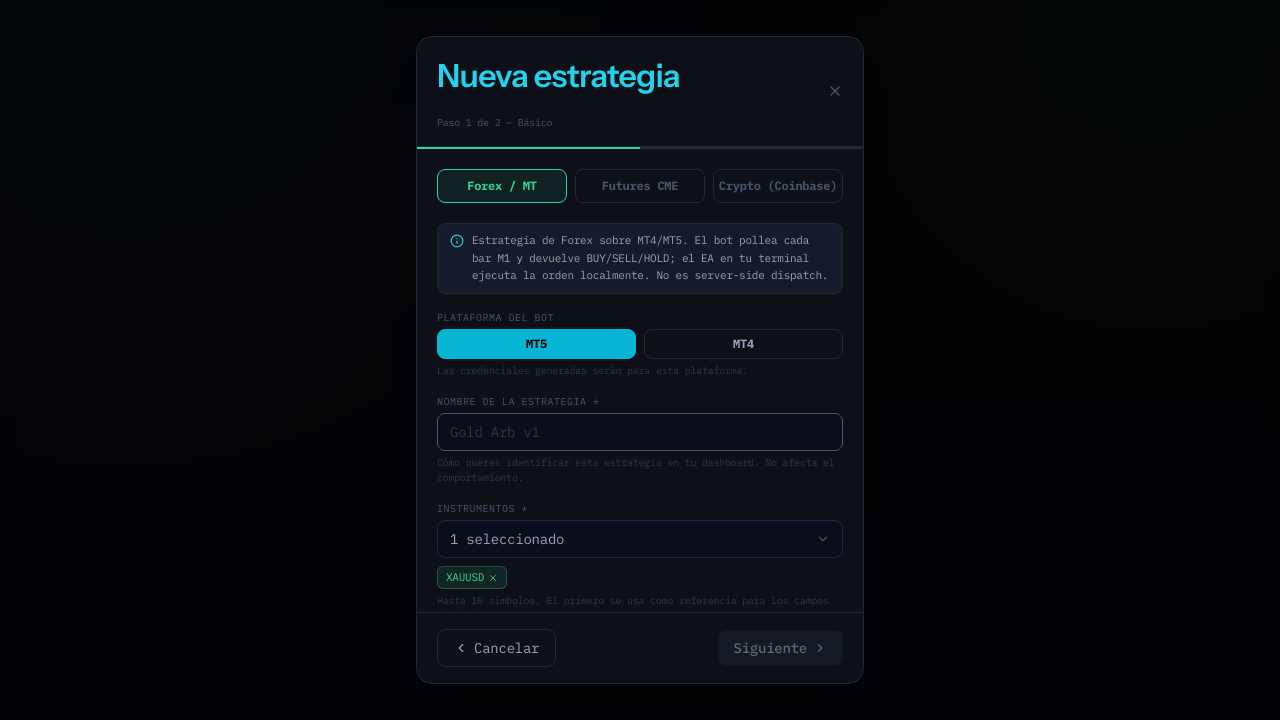
it: NewStrategyWizard › switching to Crypto renders StepCrypto (Wave 4 item 14)
This screenshot has width=1280, height=720.
expect the text "Estrategia de Forex sobre MT4/MT5" is shown: met, box top-left (472, 233), bottom-right (828, 282)
What coordinates should you click on to do the following:
click the button "Crypto (Coinbase)"
I would click on:
 (778, 186)
Its box is top-left (713, 169), bottom-right (843, 203).
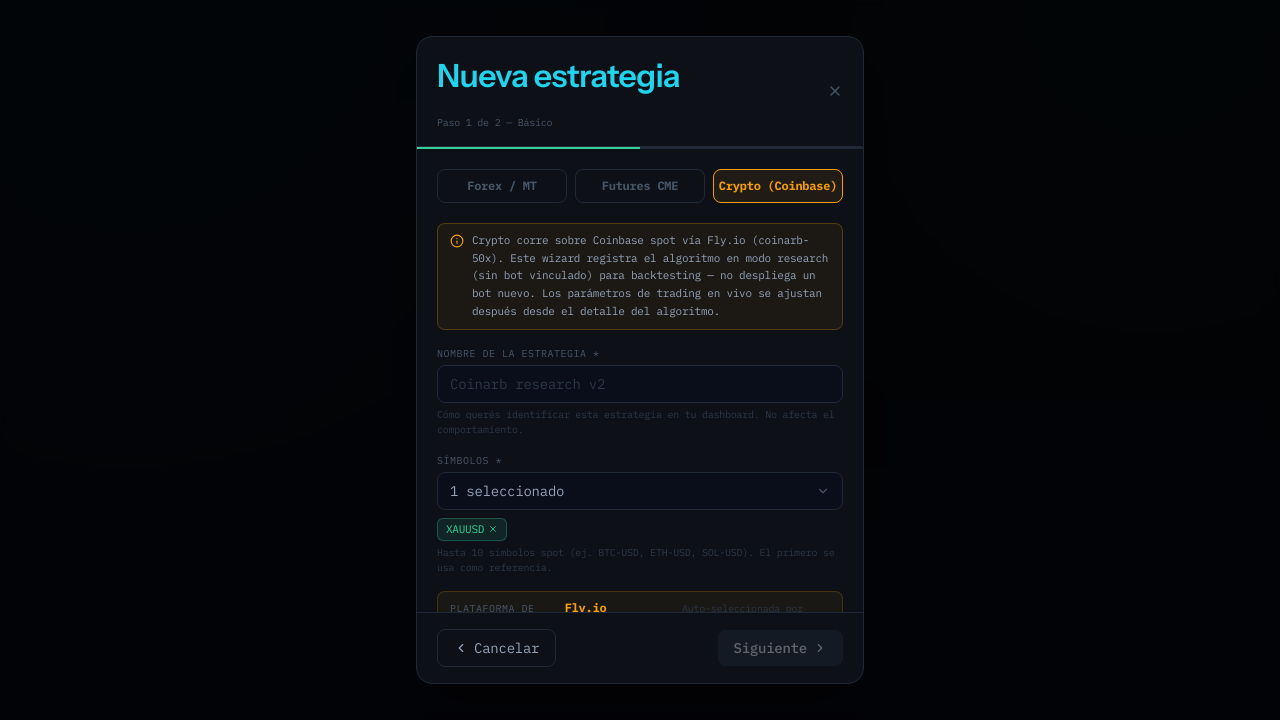
expect the text "Coinbase spot vía Fly.io" is shown: met, box top-left (472, 233), bottom-right (828, 318)
